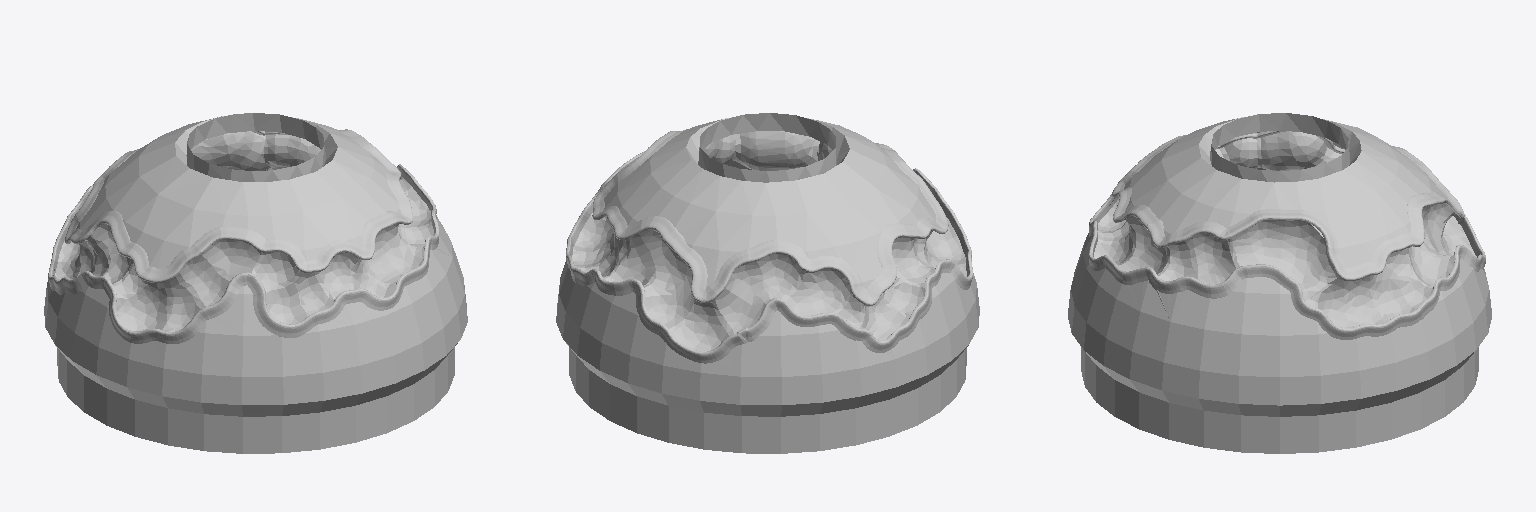
File: ground.obj
3 renders of one model, left to right at view 1: azimuth 30°, elevation 25°; view 2: azimuth 150°, elevation 25°; view 3: azimuth 270°, elevation 25°, orthographic.
Parts seen in each view (by area): view 1: ground_top; view 2: ground_top; view 3: ground_top.
Part boxes in pixels (bbox=[...]): ground_top: bbox=[44, 113, 467, 453]; ground_top: bbox=[556, 113, 979, 453]; ground_top: bbox=[1068, 113, 1491, 453].
Bounding box in the file's own units: 48.41 × 28.67 × 48.41.